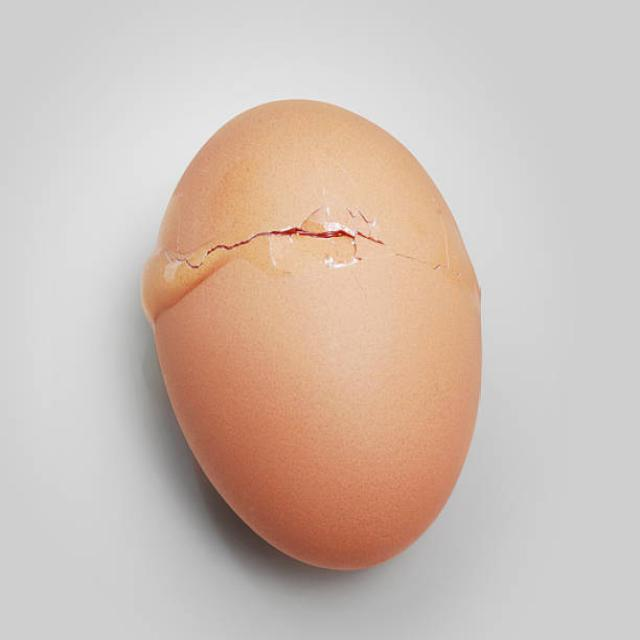Crack: (143, 188, 485, 320)
Egg: (114, 92, 514, 580)
